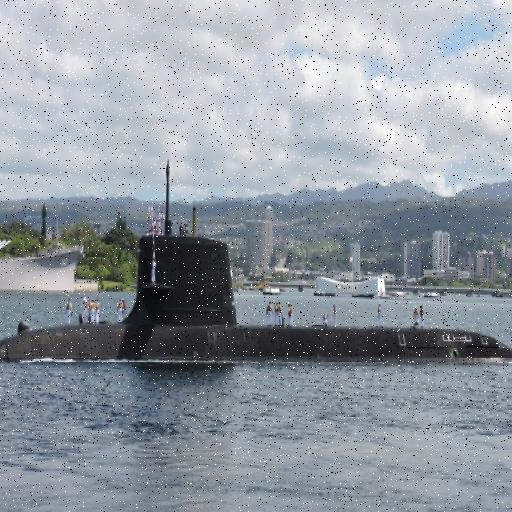submarine: (1, 232, 512, 366)
